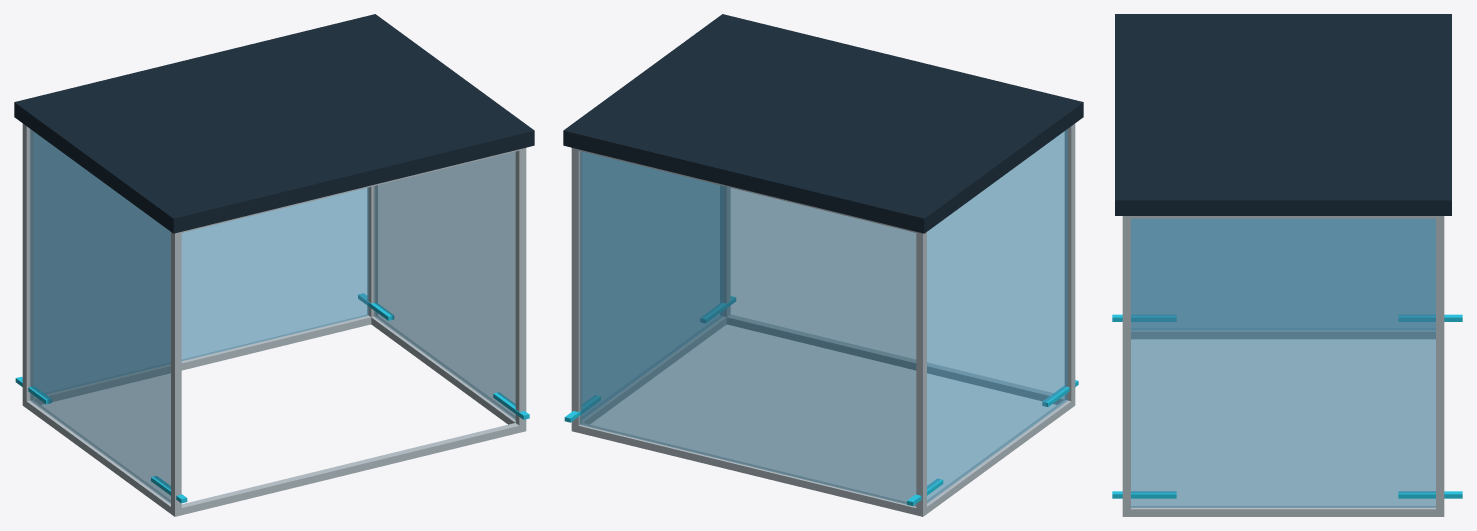
The model's file is 02_L83_TransparentSpacecraftPowerTestChamber.fbx.
The picture shows the model from 3 angles, left to right: view 1: azimuth 30°, elevation 25°; view 2: azimuth 150°, elevation 25°; view 3: azimuth 270°, elevation 25°; orthographic projection. The views are drawn at different scales.
Parts seen in each view (by area): view 1: TransparentSpacecraftPowerTestChamber; view 2: TransparentSpacecraftPowerTestChamber; view 3: TransparentSpacecraftPowerTestChamber.
Part boxes in pixels (bbox=[...]): TransparentSpacecraftPowerTestChamber: bbox=[14, 14, 534, 516]; TransparentSpacecraftPowerTestChamber: bbox=[563, 14, 1083, 516]; TransparentSpacecraftPowerTestChamber: bbox=[1112, 14, 1462, 516].
Bounding box in the file's own units: 555 × 444 × 441.
